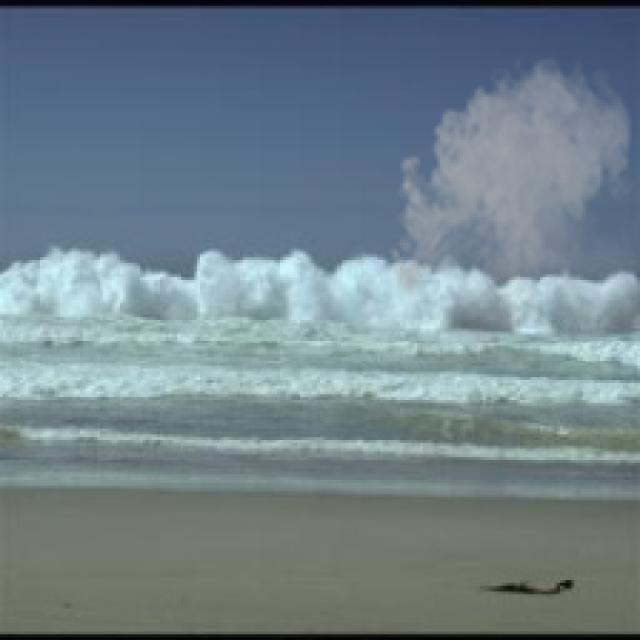smoke: (383, 48, 637, 332)
